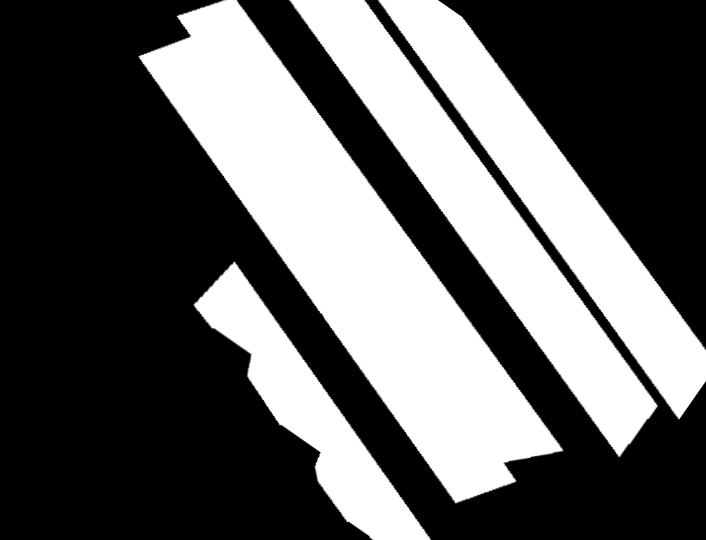parkingspot: (138, 0, 563, 503), (289, 0, 658, 457), (378, 0, 706, 419), (194, 262, 431, 540)
